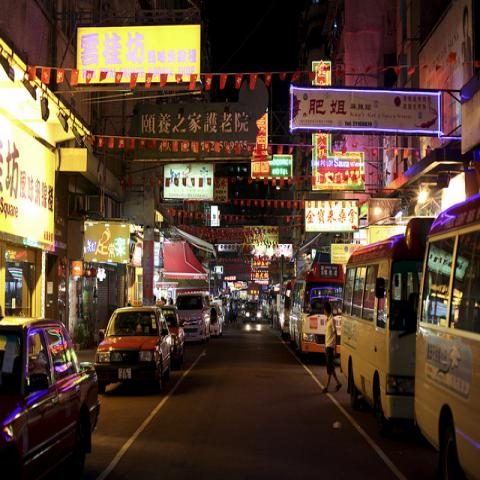bus: (339, 216, 436, 426), (415, 195, 480, 474), (289, 264, 345, 363), (282, 280, 292, 342), (260, 291, 270, 317)
car: (1, 312, 102, 474), (94, 300, 174, 392), (175, 294, 211, 342), (159, 305, 186, 364), (207, 302, 223, 339), (241, 301, 263, 324)
